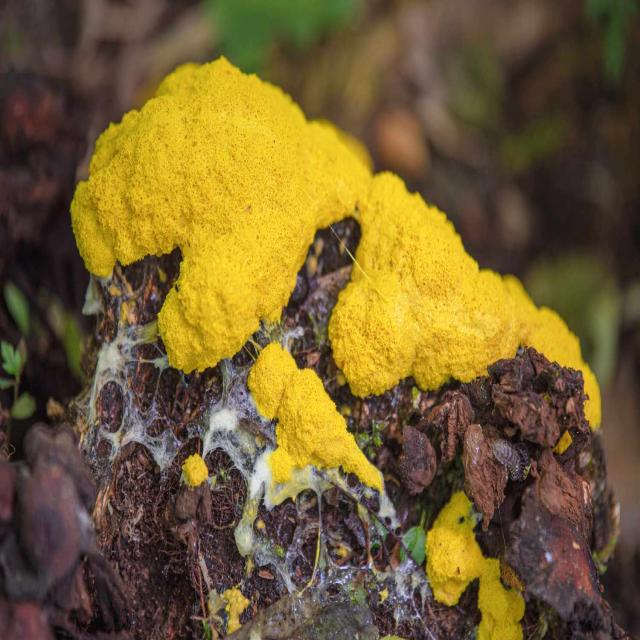Dog_vomit_slime_mold: (68, 41, 634, 640)
